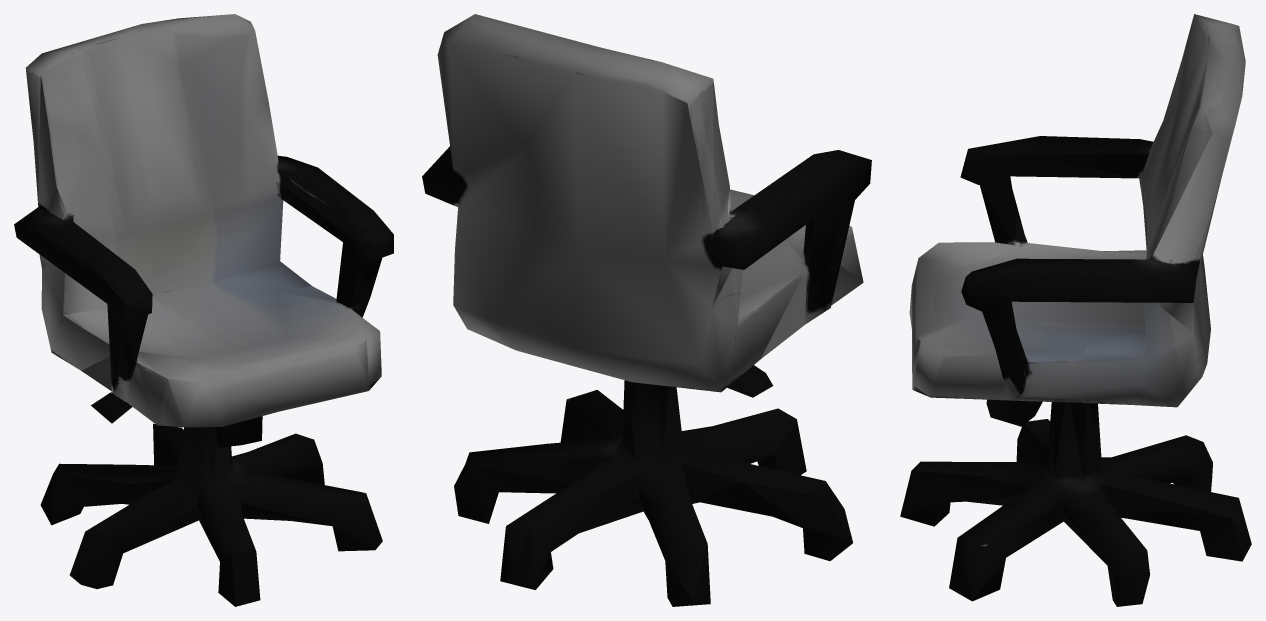
Rendered from office-chair.glb.
The picture shows the model from 3 angles, left to right: view 1: azimuth 30°, elevation 25°; view 2: azimuth 150°, elevation 25°; view 3: azimuth 270°, elevation 25°; orthographic projection. The views are drawn at different scales.
Visible parts, largest first — view 1: geometry_0.001; view 2: geometry_0.001; view 3: geometry_0.001.
Boxes of the visible parts, x1,y1,x2,y2 form: geometry_0.001: (14, 14, 393, 606); geometry_0.001: (422, 14, 871, 606); geometry_0.001: (900, 14, 1251, 606).
Bounding box in the file's own units: 0.6607 × 1 × 0.6589.
1 material, 1 textured.
